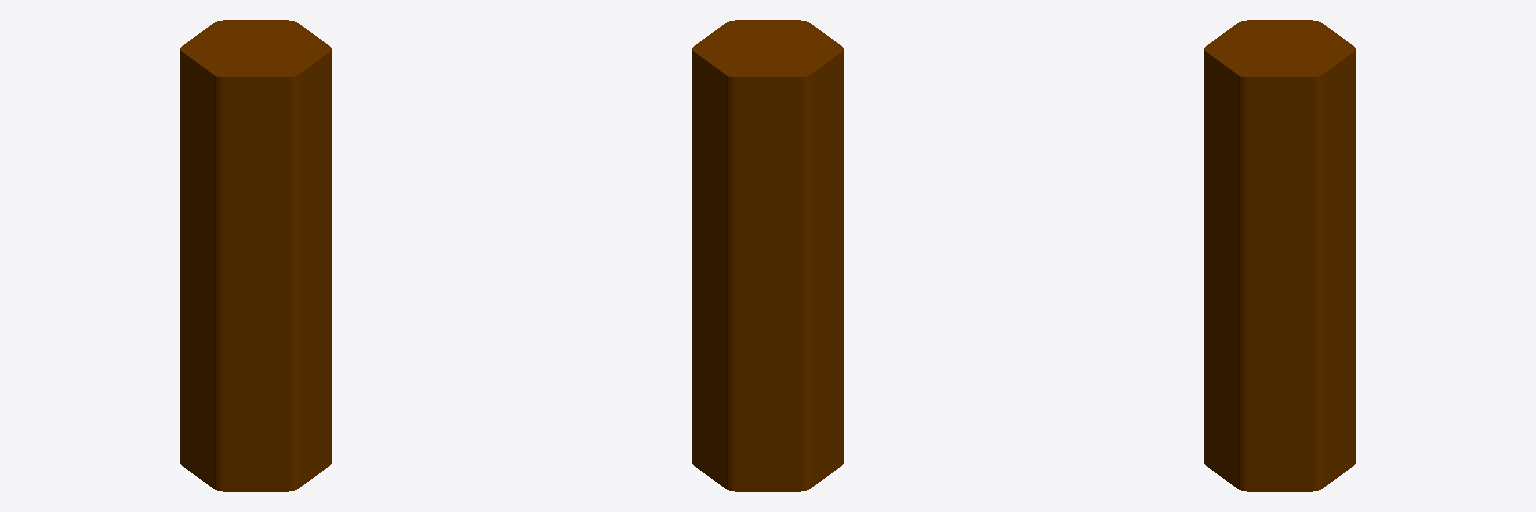
URDF robot description (Small_Short_Hexagon_Brown):
<?xml version="1.0"?>
<robot name="Small_Short_Hexagon_Brown">
    <link name="Small_Short_Hexagon_Brown">
        <visual>
            <geometry>
                <mesh filename="../mesh/factory_insertion/Small_Short_Hexagon_Brown.obj" scale="0.001 0.001 0.001"/>
            </geometry>
            <material name="Brown">
              <color rgba="0.46 0.25 0 0"/>
            </material>
        </visual>
        <collision>
            <geometry>
                <mesh filename="../mesh/factory_insertion/Small_Short_Hexagon_Brown.obj" scale="0.001 0.001 0.001"/>
            </geometry>
            <sdf resolution="512"/>
        </collision>
    </link>
</robot>

--- Facts derived from the render (not from the file) ---
Views: 3 orthographic renders of the robot side by side, from view 1: azimuth 30°, elevation 25°; view 2: azimuth 150°, elevation 25°; view 3: azimuth 270°, elevation 25°.
Model Small_Short_Hexagon_Brown with 1 links and 0 joints (none), rooted at Small_Short_Hexagon_Brown, posed all joints at 0.
Visible links, largest first — view 1: Small_Short_Hexagon_Brown; view 2: Small_Short_Hexagon_Brown; view 3: Small_Short_Hexagon_Brown.
Boxes of the visible links, x1,y1,x2,y2 form: Small_Short_Hexagon_Brown: (180, 20, 331, 491); Small_Short_Hexagon_Brown: (692, 20, 843, 491); Small_Short_Hexagon_Brown: (1204, 20, 1355, 491).
Size in the robot's own frame: 0.0294 by 0.0332 by 0.1 metres.
1 mesh visuals loaded from 1 distinct referenced files (1 OBJ).
